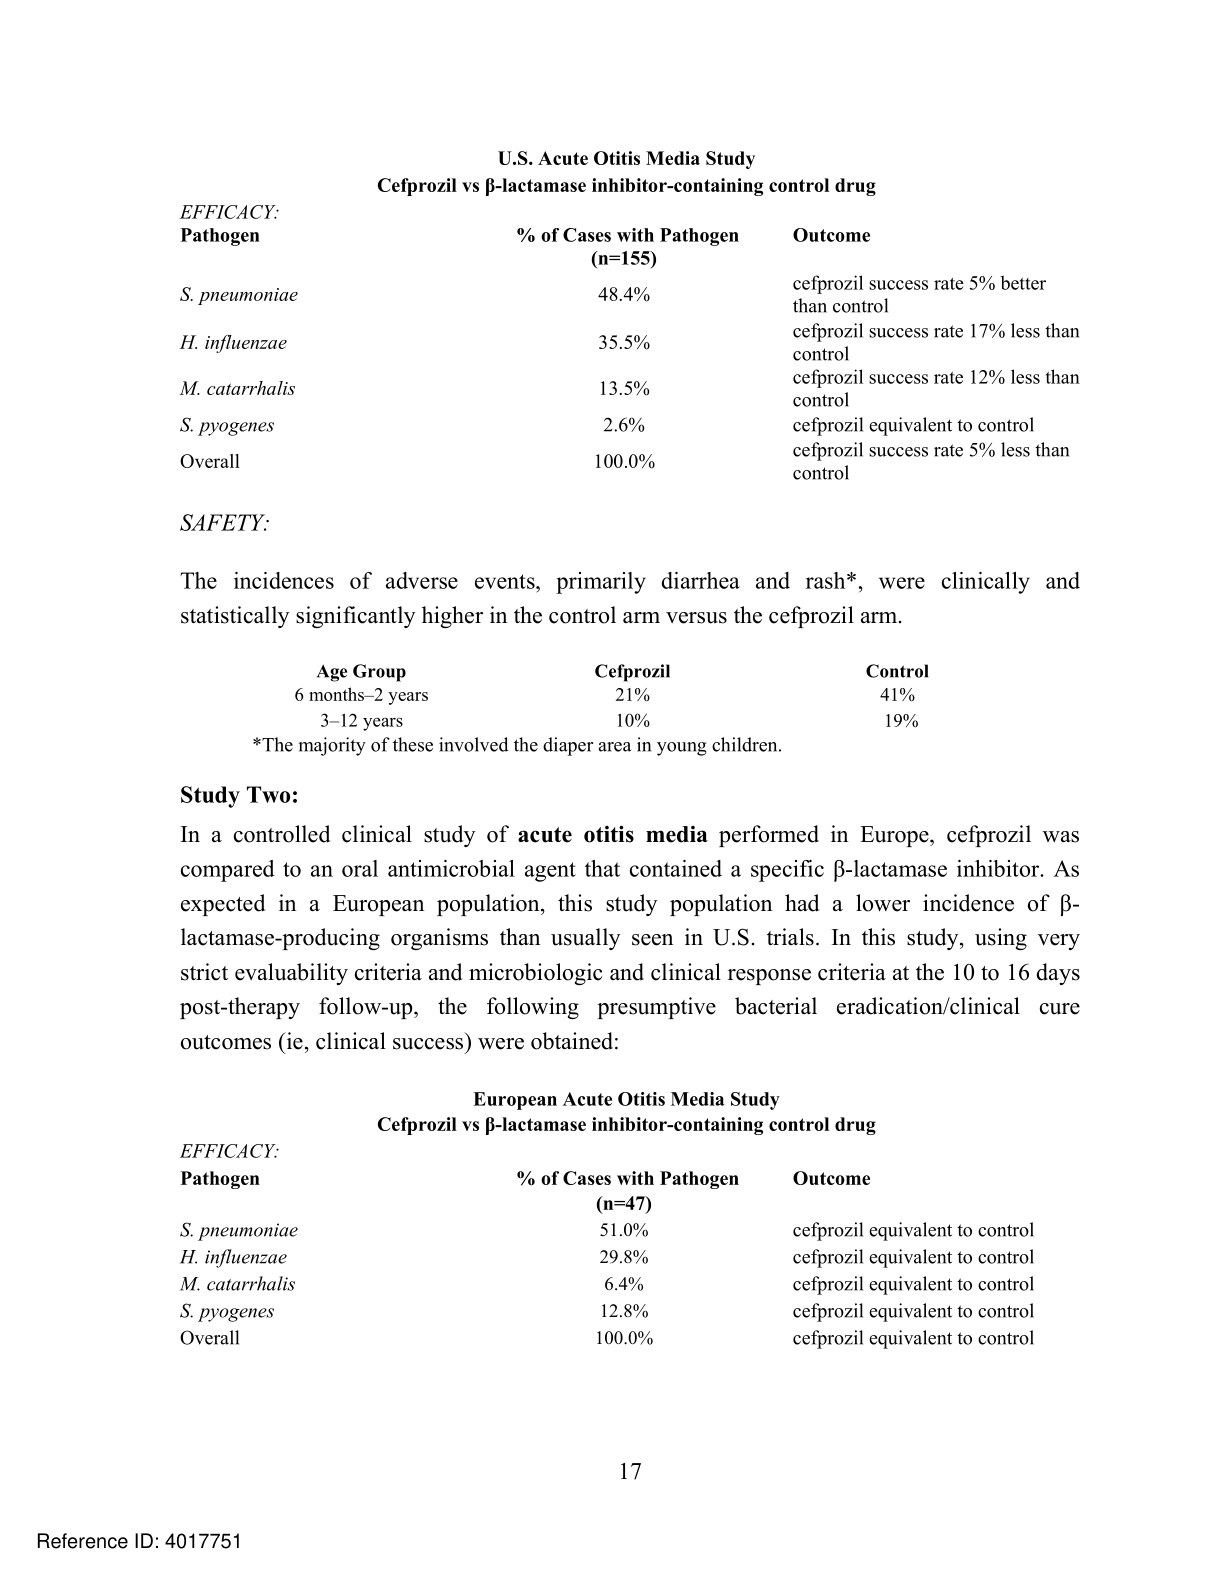nolines: (177, 226, 1085, 482), (177, 1167, 1038, 1353), (292, 662, 933, 729)
